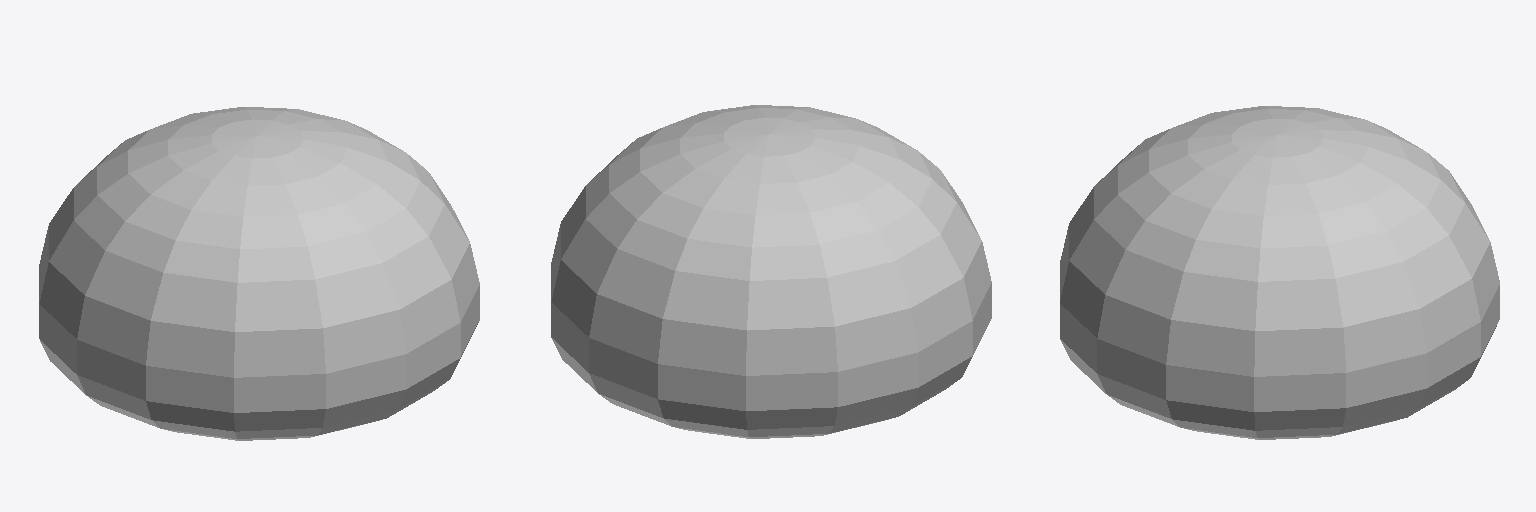
The model's file is Slime.obj.
The picture shows the model from 3 angles: view 1: azimuth 30°, elevation 25°; view 2: azimuth 150°, elevation 25°; view 3: azimuth 270°, elevation 25°; orthographic projection.
Parts seen in each view (by area): view 1: Sphere.003; view 2: Sphere.003; view 3: Sphere.003.
Boxes of the visible parts, x1=… form: Sphere.003: x1=39, y1=107, x2=479, y2=440; Sphere.003: x1=551, y1=105, x2=991, y2=438; Sphere.003: x1=1060, y1=106, x2=1499, y2=439.
Size of the model in its own units: 3.81 by 2.29 by 3.79.